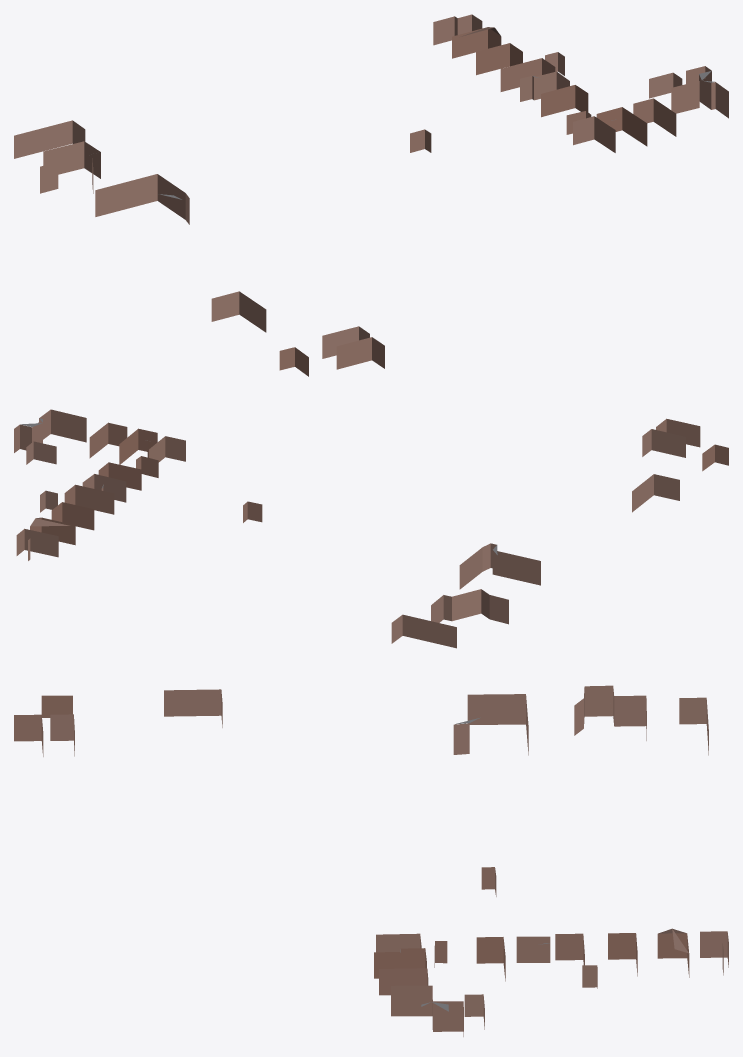
Rendered from c_1635_17821_buildings_residential.glb.
3 renders of one model, top to bottom at view 1: azimuth 30°, elevation 25°; view 2: azimuth 150°, elevation 25°; view 3: azimuth 270°, elevation 25°, orthographic. The views are drawn at different scales.
Visible parts, largest first — view 1: geometry_0; view 2: geometry_0; view 3: geometry_0.
Part boxes in pixels (left/top/right/bottom): geometry_0: left=14, top=14, right=728, bottom=376; geometry_0: left=14, top=409, right=728, bottom=648; geometry_0: left=14, top=685, right=728, bottom=1036.
Bounding box in the file's own units: 256 × 12.88 × 234.
